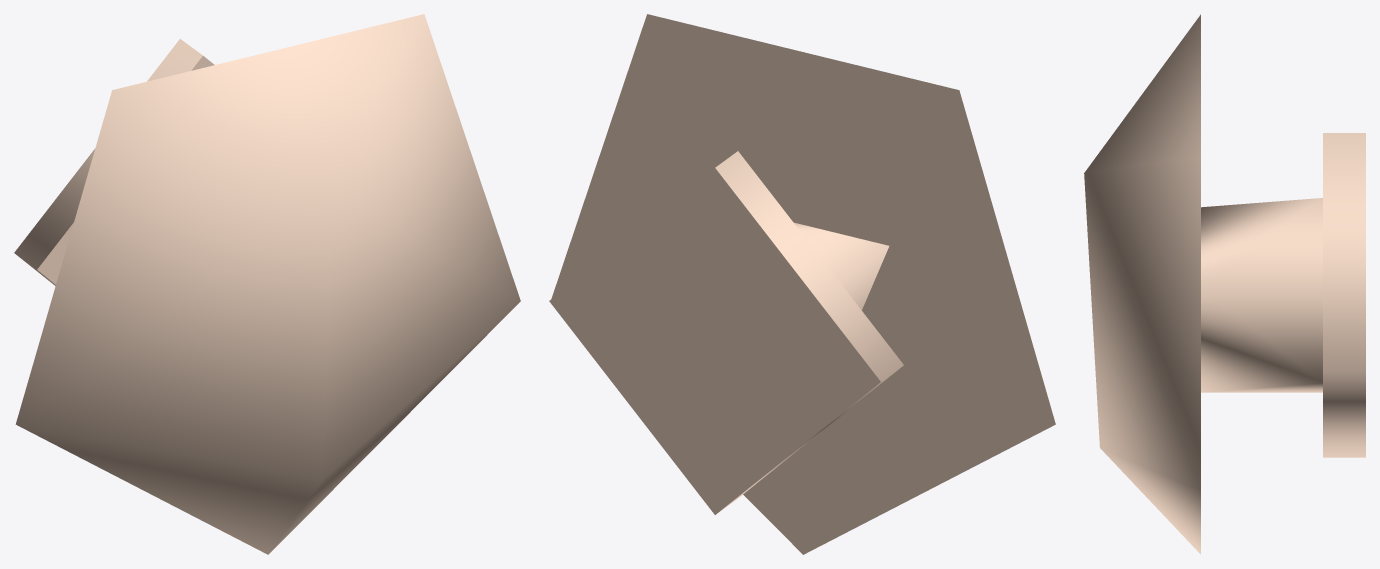
Rendered from Rivet_Rebord laiton_instance_2.obj.
3 renders of one model, left to right at view 1: azimuth 30°, elevation 25°; view 2: azimuth 150°, elevation 25°; view 3: azimuth 270°, elevation 25°, orthographic. The views are drawn at different scales.
Visible parts, largest first — view 1: Face_3, Face_4, Face_6; view 2: Face_2, Face_5, Face_4, Face_1; view 3: Face_3, Face_1, Face_4.
Part boxes in pixels (x1,y1,x2,y2): Face_3: (15,14,520,554); Face_4: (14,39,202,285); Face_6: (37,56,214,284); Face_2: (551,14,1055,554); Face_5: (549,168,880,514); Face_4: (715,151,903,513); Face_1: (794,222,889,310); Face_3: (1084,14,1200,554); Face_1: (1201,198,1322,392); Face_4: (1323,133,1365,457).
Size of the model in its own units: 0.0038 by 0.00362 by 0.00197.
